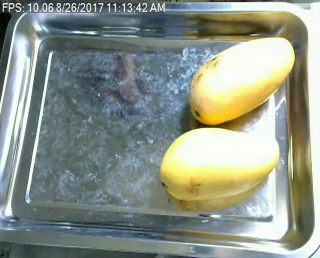Mango: (157, 125, 282, 207), (187, 34, 296, 124)
